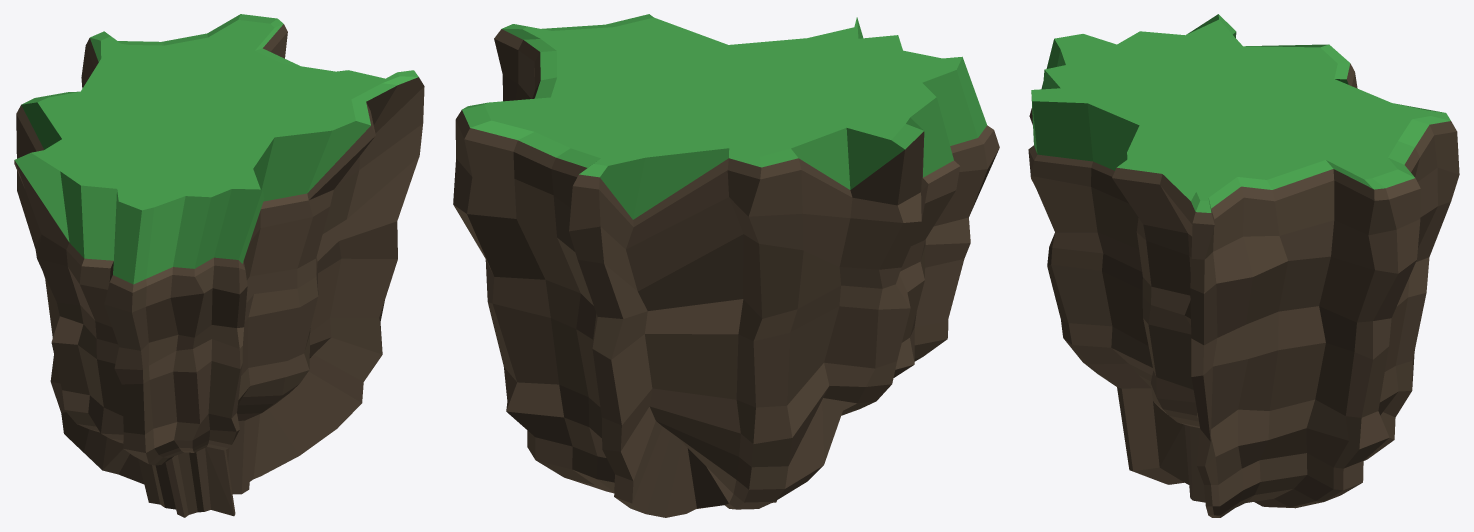
Rendered from Cliff3.fbx.
The picture shows the model from 3 angles, left to right: view 1: azimuth 30°, elevation 25°; view 2: azimuth 150°, elevation 25°; view 3: azimuth 270°, elevation 25°; orthographic projection. The views are drawn at different scales.
Parts seen in each view (by area): view 1: Cliff2.001; view 2: Cliff2.001; view 3: Cliff2.001.
Part boxes in pixels (box(x1,y1,x2,y2)): Cliff2.001: box(14, 14, 424, 517); Cliff2.001: box(453, 14, 999, 517); Cliff2.001: box(1028, 14, 1459, 517).
Size of the model in its own units: 1139 by 1033 by 1051.
